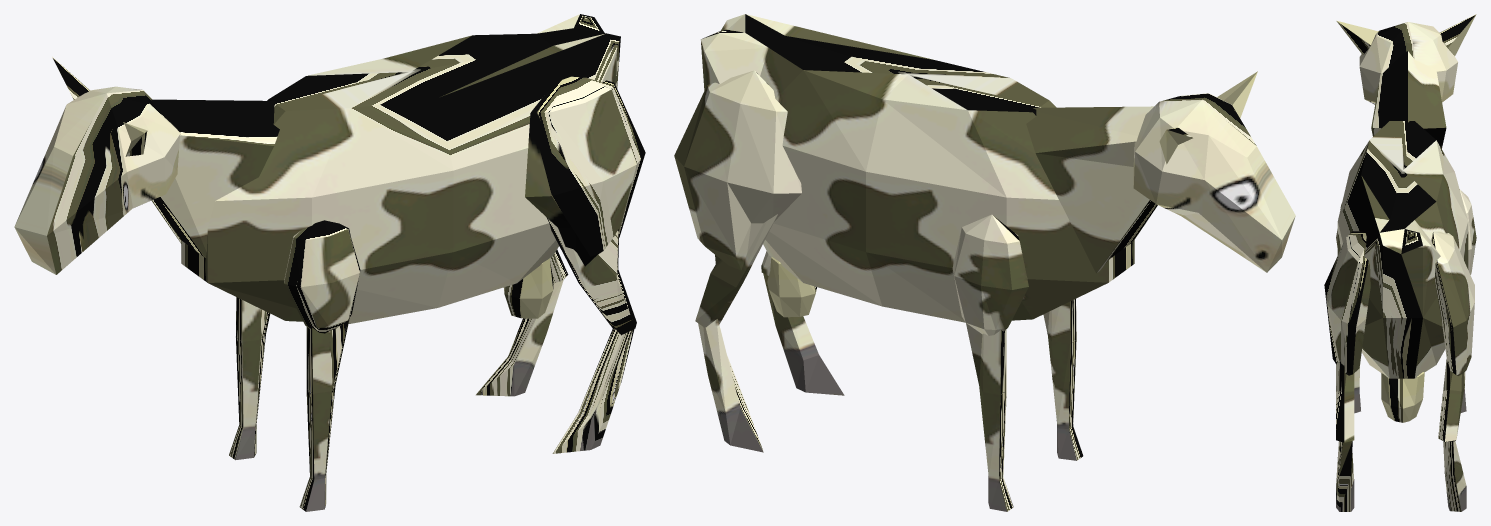
The model's file is MCow.glb.
3 views of the same model, side by side, from view 1: azimuth 30°, elevation 25°; view 2: azimuth 150°, elevation 25°; view 3: azimuth 270°, elevation 25° (orthographic). The views are drawn at different scales.
Parts seen in each view (by area): view 1: MCow; view 2: MCow; view 3: MCow.
Part boxes in pixels (<box>): MCow: <box>14,14,645,511</box>; MCow: <box>674,14,1295,511</box>; MCow: <box>1324,14,1476,511</box>.
Size of the model in its own units: 273 by 191 by 80.28.
1 material, 1 textured.
